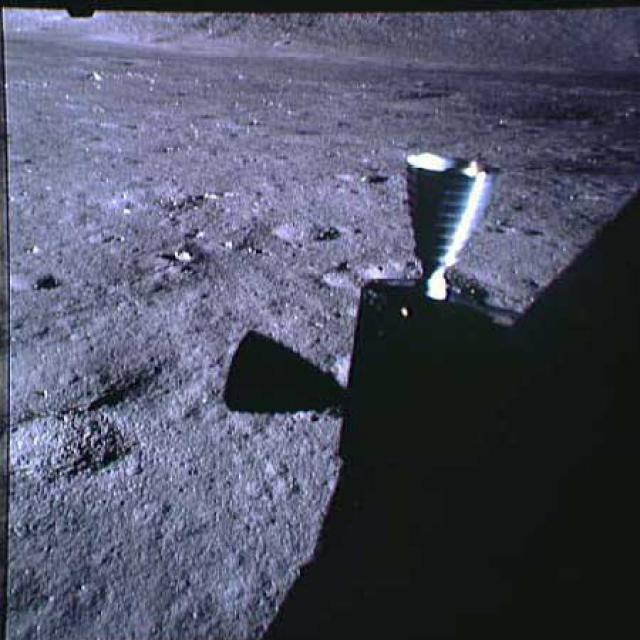artifact: (346, 136, 638, 638)
crater: (457, 99, 609, 127), (333, 81, 450, 99), (273, 218, 346, 244)
